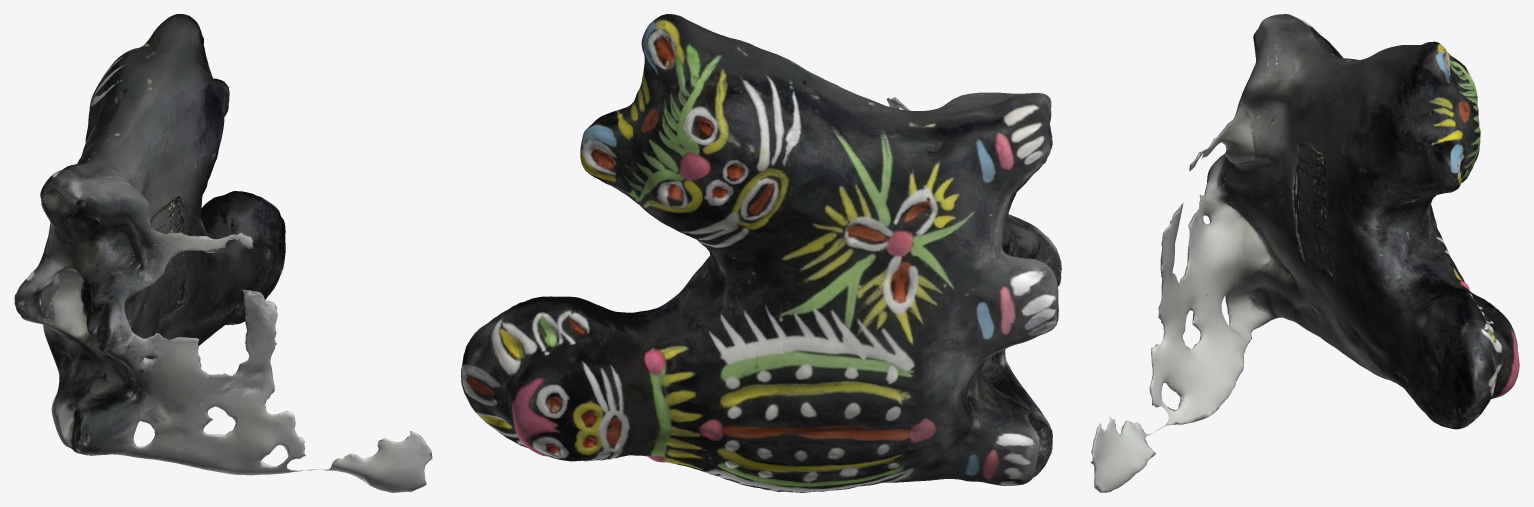
The picture shows the model from 3 angles, left to right: view 1: azimuth 30°, elevation 25°; view 2: azimuth 150°, elevation 25°; view 3: azimuth 270°, elevation 25°; orthographic projection. The views are drawn at different scales.
Size of the model in its own units: 0.7989 by 0.8547 by 0.8119.
Materials: 1 (1 with a texture image).
